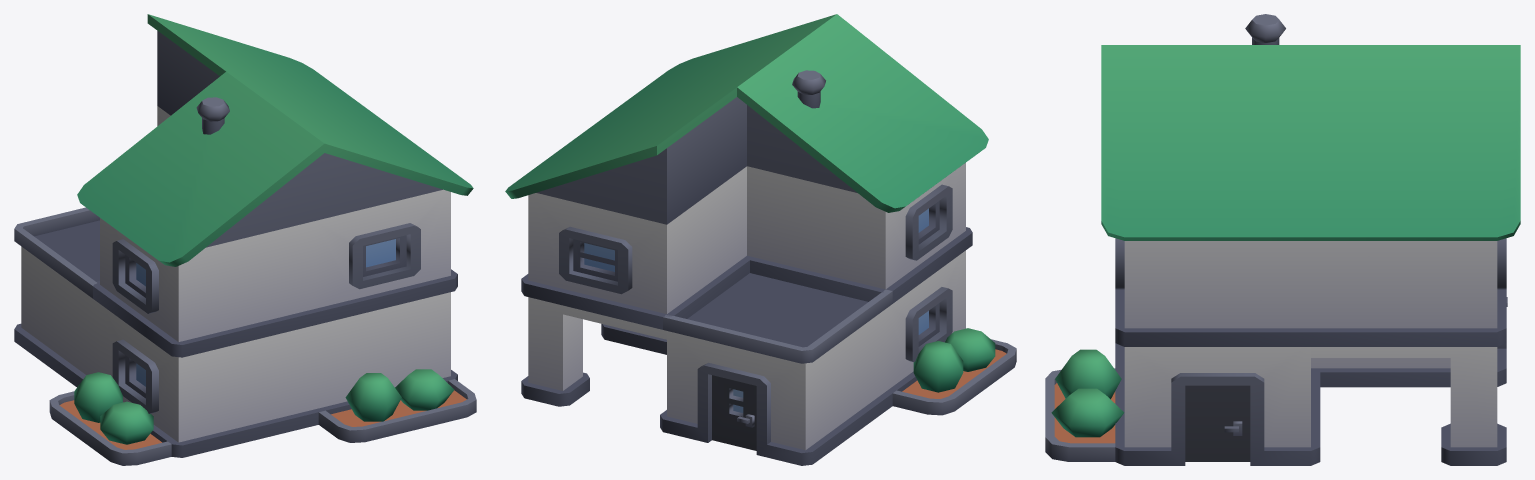
File: villaE.glb
The picture shows the model from 3 angles, left to right: view 1: azimuth 30°, elevation 25°; view 2: azimuth 150°, elevation 25°; view 3: azimuth 270°, elevation 25°; orthographic projection. The views are drawn at different scales.
Parts seen in each view (by area): view 1: villaE; view 2: villaE; view 3: villaE.
Boxes of the visible parts, bbox=[...] form: villaE: bbox=[14, 14, 476, 465]; villaE: bbox=[505, 14, 1016, 465]; villaE: bbox=[1045, 14, 1520, 465].
Bounding box in the file's own units: 11 × 8.6 × 10.91.
